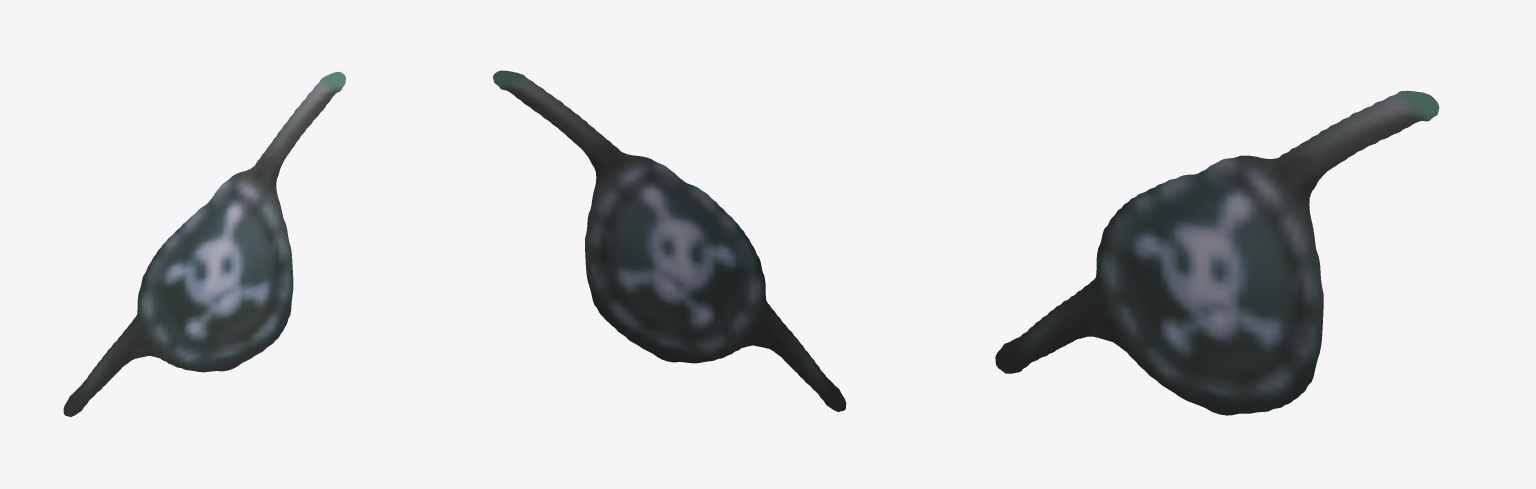
The model's file is Cat Prop Eye Patch.FBX.
3 renders of one model, left to right at view 1: azimuth 30°, elevation 25°; view 2: azimuth 150°, elevation 25°; view 3: azimuth 330°, elevation 25°, orthographic. The views are drawn at different scales.
Parts seen in each view (by area): view 1: Cat Prop Eye Patch; view 2: Cat Prop Eye Patch; view 3: Cat Prop Eye Patch.
Boxes of the visible parts, x1,y1,x2,y2 form: Cat Prop Eye Patch: [63, 71, 345, 416]; Cat Prop Eye Patch: [493, 70, 846, 411]; Cat Prop Eye Patch: [995, 90, 1439, 415].
Size of the model in its own units: 42.33 by 4.51 by 36.74.
